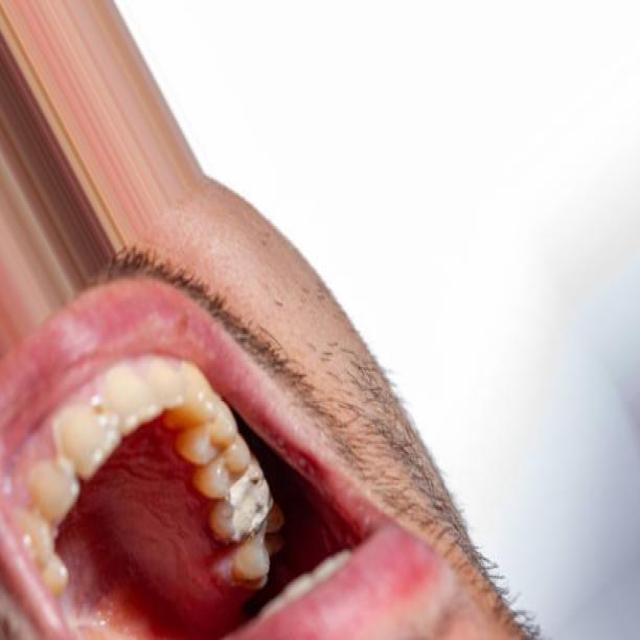caries: (228, 466, 281, 551)
